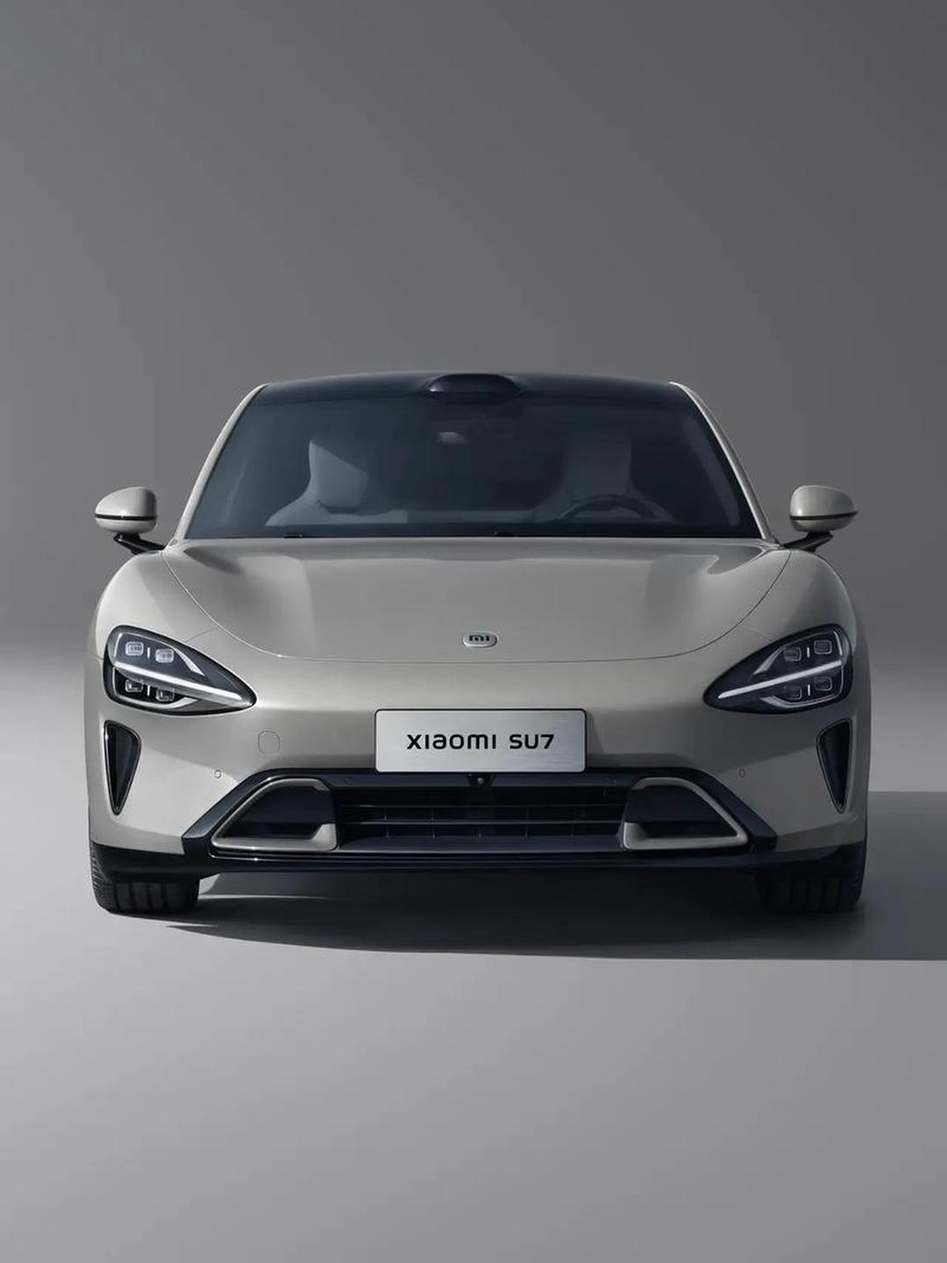su7: (89, 349, 880, 952)
